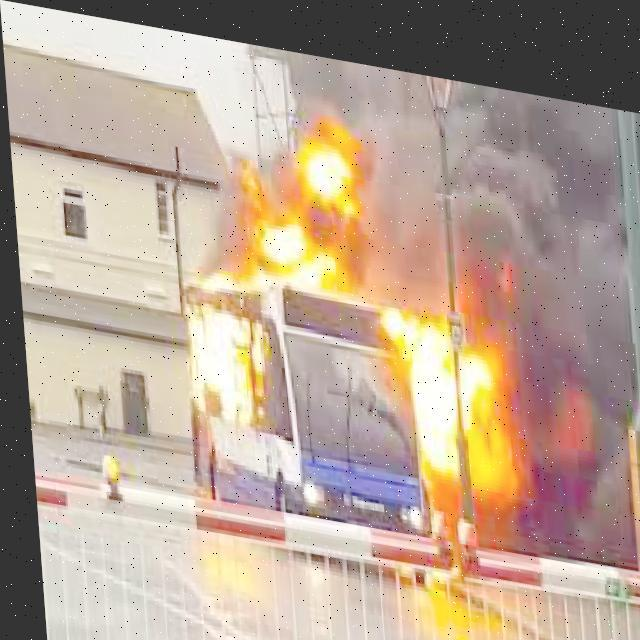Fire: (170, 82, 391, 312), (368, 276, 520, 512), (168, 281, 272, 419)
